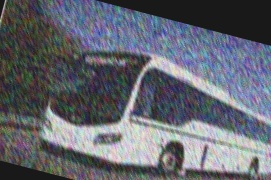bus: (35, 30, 271, 180)
